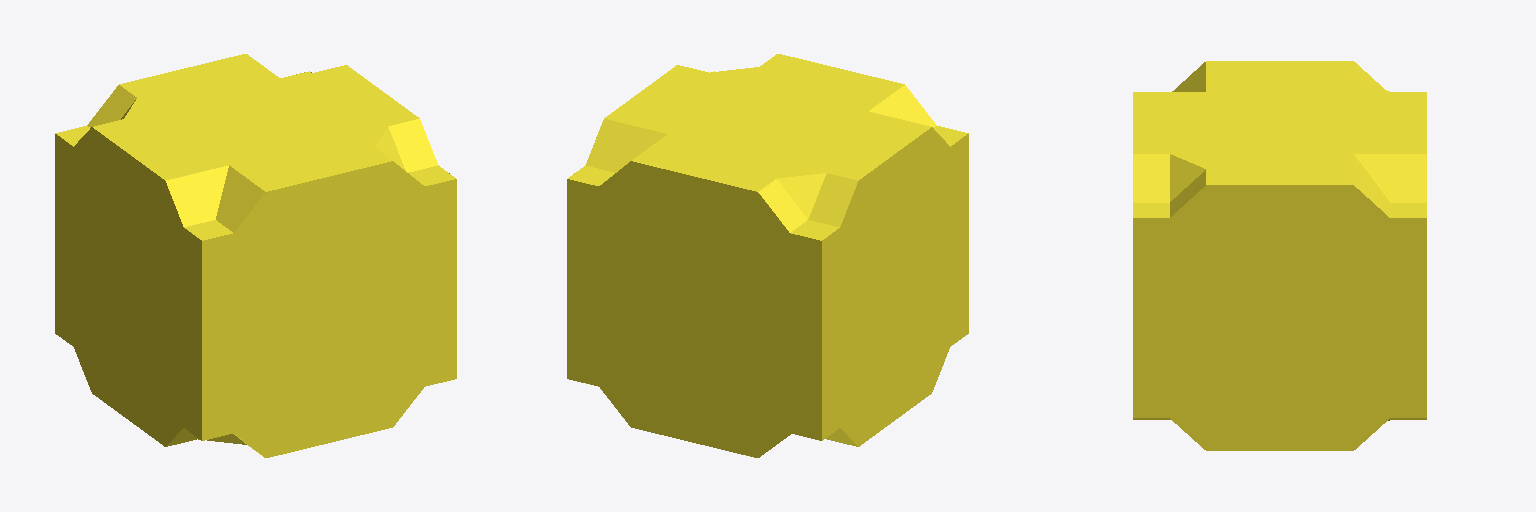
3 renders of one model, left to right at view 1: azimuth 30°, elevation 25°; view 2: azimuth 150°, elevation 25°; view 3: azimuth 270°, elevation 25°, orthographic.
Visible parts, largest first — view 1: 立方体.002; view 2: 立方体.002; view 3: 立方体.002.
Boxes of the visible parts, x1=… form: 立方体.002: x1=55, y1=54, x2=456, y2=457; 立方体.002: x1=567, y1=54, x2=968, y2=457; 立方体.002: x1=1133, y1=61, x2=1426, y2=450.
Bounding box in the file's own units: 1 × 1 × 1.
1 materials, 1 textured.